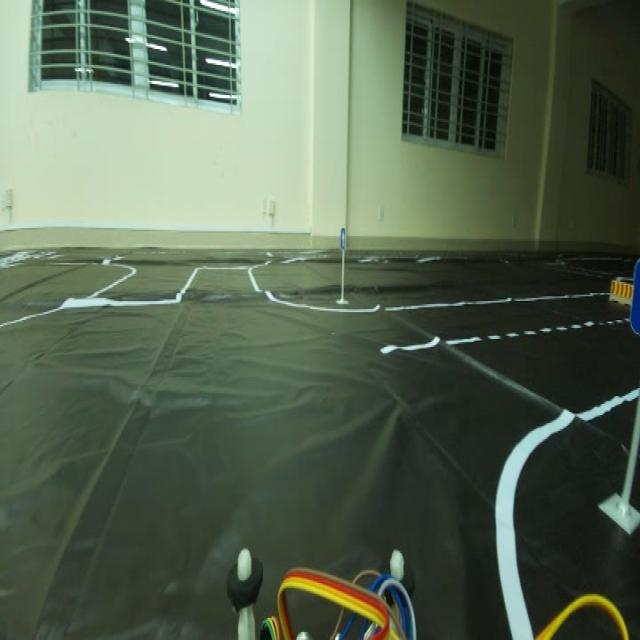onewayroad: (332, 219, 354, 256)
roadblock: (604, 264, 634, 314)
